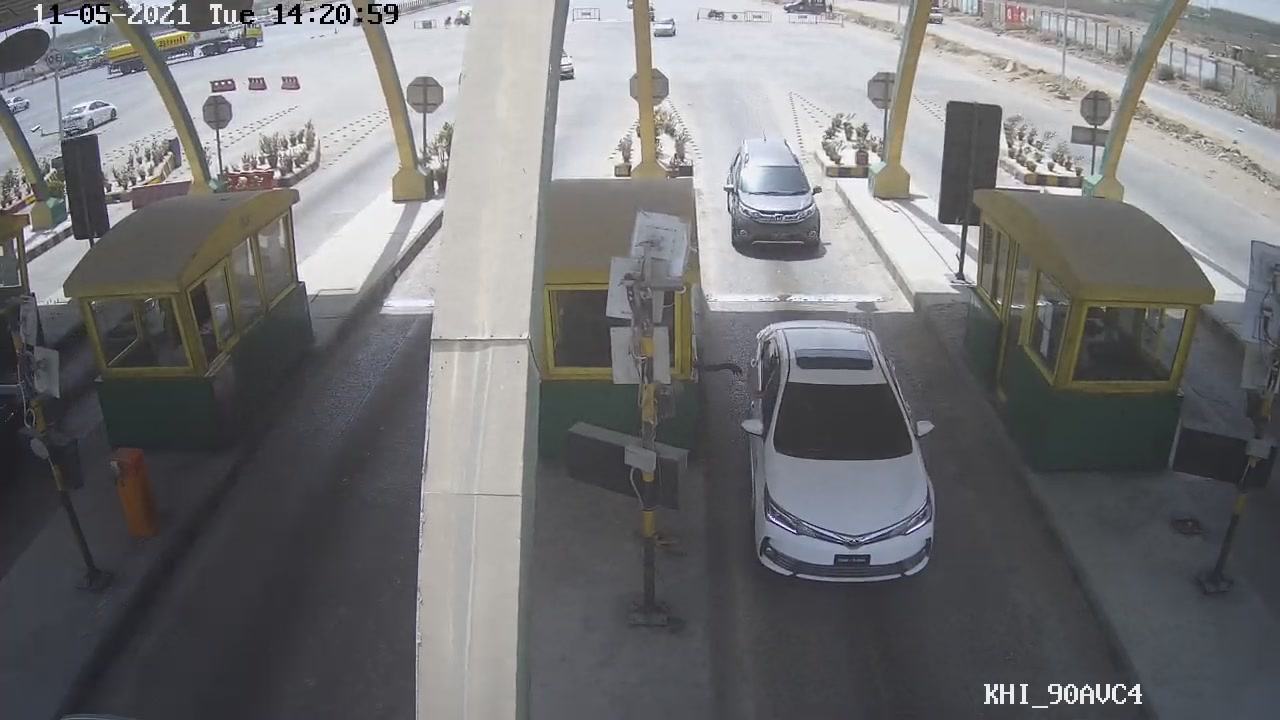F1: (740, 315, 945, 583)
